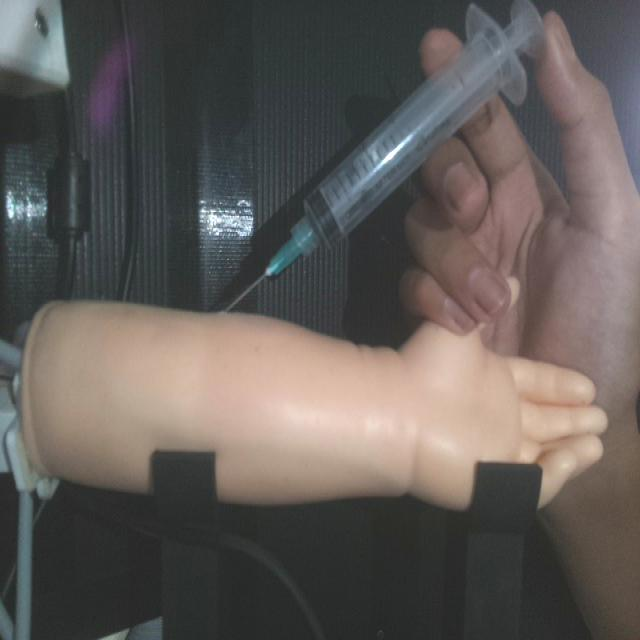Above 30 degrees: (220, 2, 552, 318)
